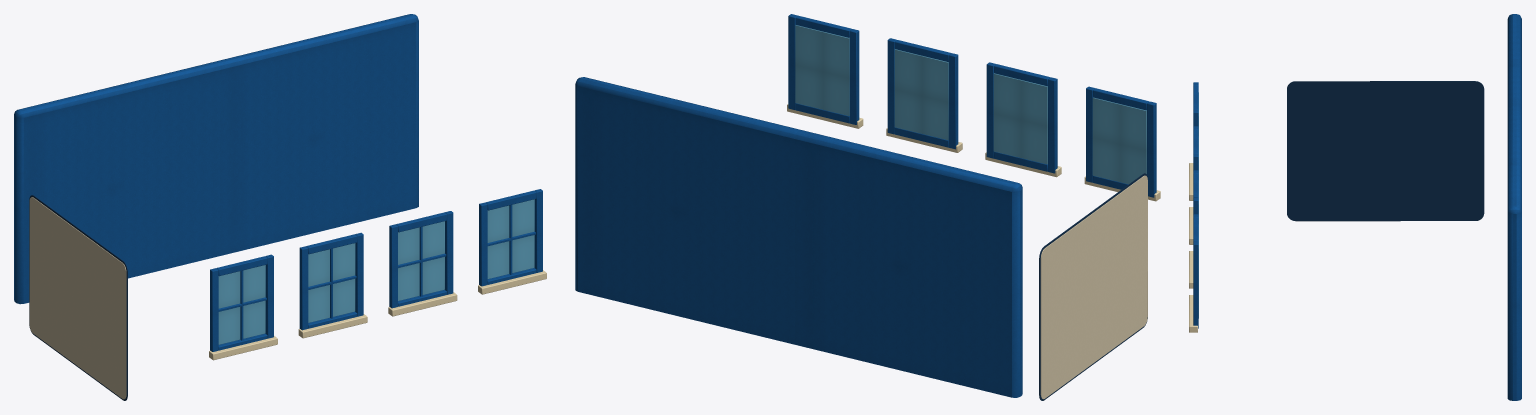
File: 12-standing-binder-band-4-3.fbx
The picture shows the model from 3 angles, left to right: view 1: azimuth 30°, elevation 25°; view 2: azimuth 150°, elevation 25°; view 3: azimuth 270°, elevation 25°; orthographic projection. The views are drawn at different scales.
Visible parts, largest first — view 1: standing-binder-band-4-3; view 2: standing-binder-band-4-3; view 3: standing-binder-band-4-3.
Boxes of the visible parts, bbox=[...] form: standing-binder-band-4-3: bbox=[14, 14, 546, 400]; standing-binder-band-4-3: bbox=[575, 14, 1160, 400]; standing-binder-band-4-3: bbox=[1189, 14, 1521, 400].
Size of the model in its own units: 13068 by 6450 by 9275.
1 material, 1 textured.
